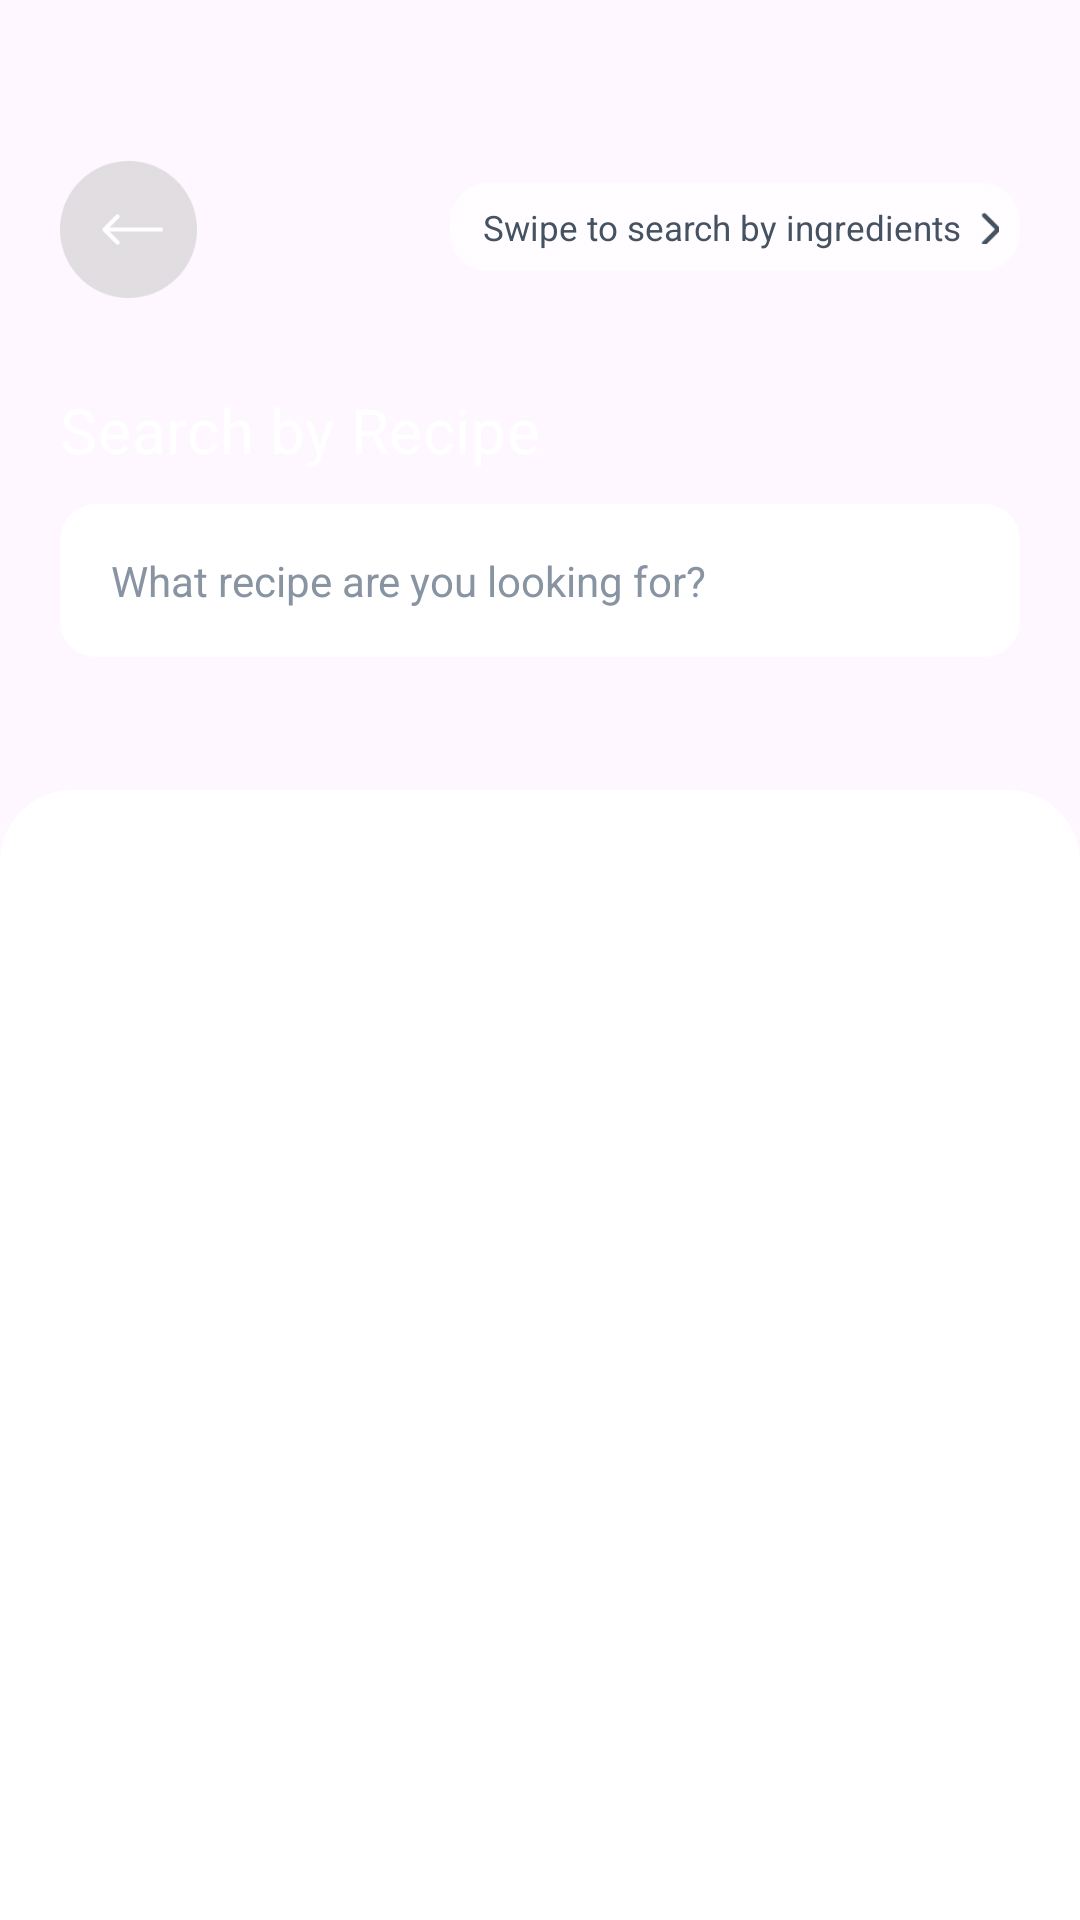

Screen size 1080x1920. Icon name, then its center in pixels as point (x, y):
back: point (128, 229)
